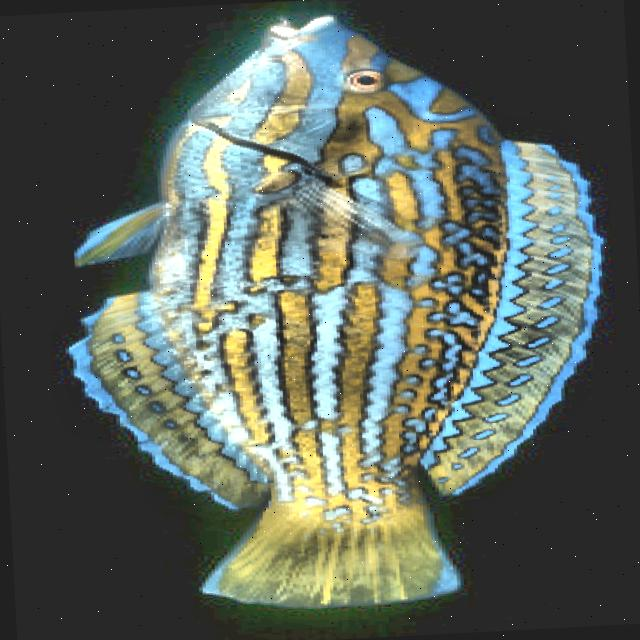fish: (45, 0, 621, 622)
